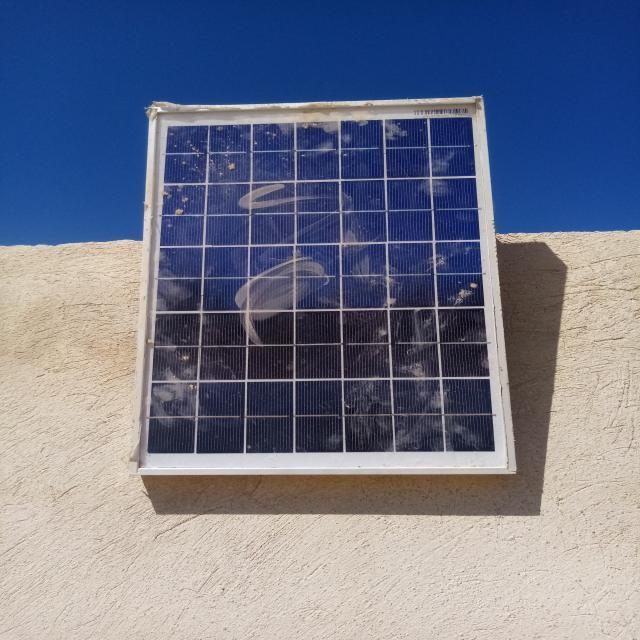faulty: (142, 98, 517, 474)
